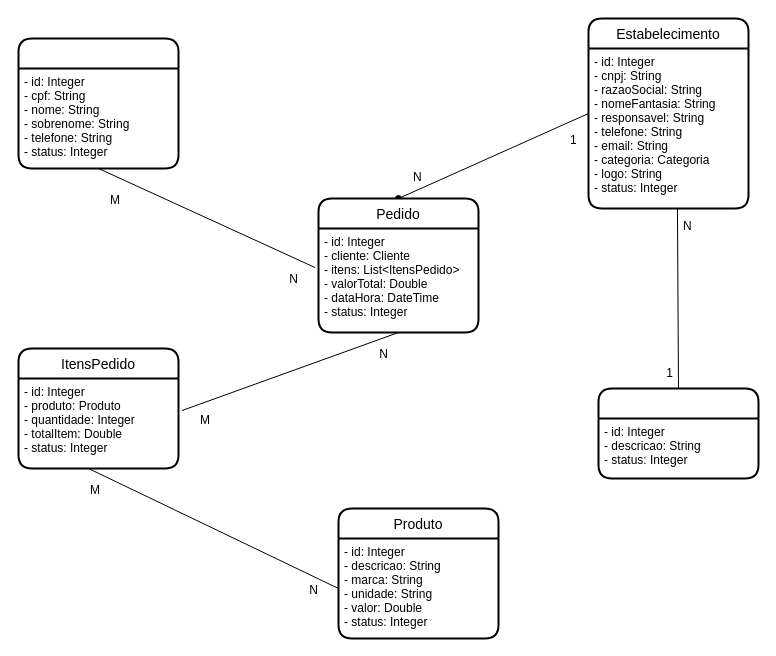
Some shapes in this 776 by 656 pixel diagram are drawn without their labels. The box of each missing label's shape, as (x1, y1, x2, y2) in pixels:
Categoria: (597, 387, 759, 479)
Cliente: (17, 37, 179, 169)
